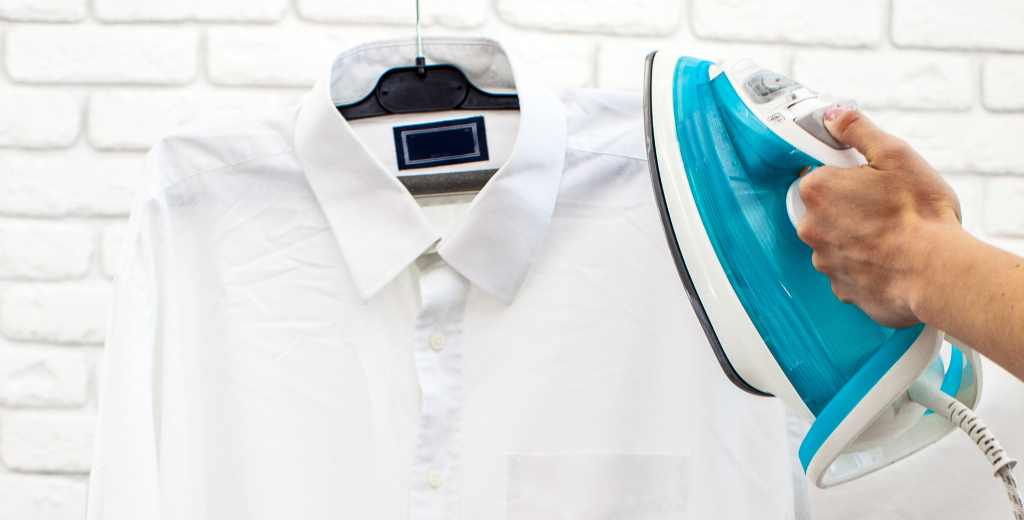iron: (638, 45, 985, 485)
